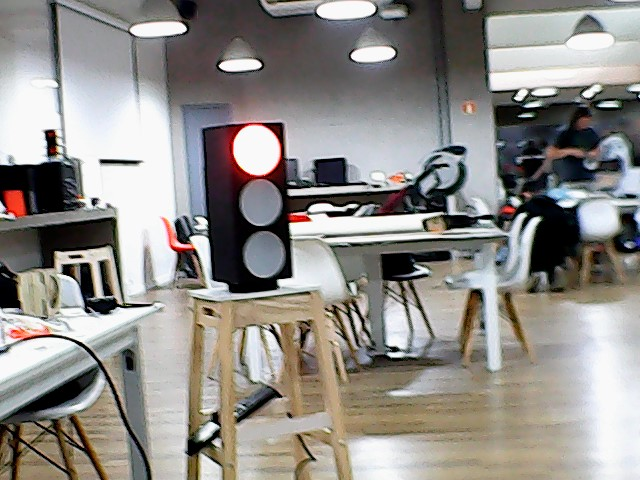vermelho: (198, 118, 299, 283)
